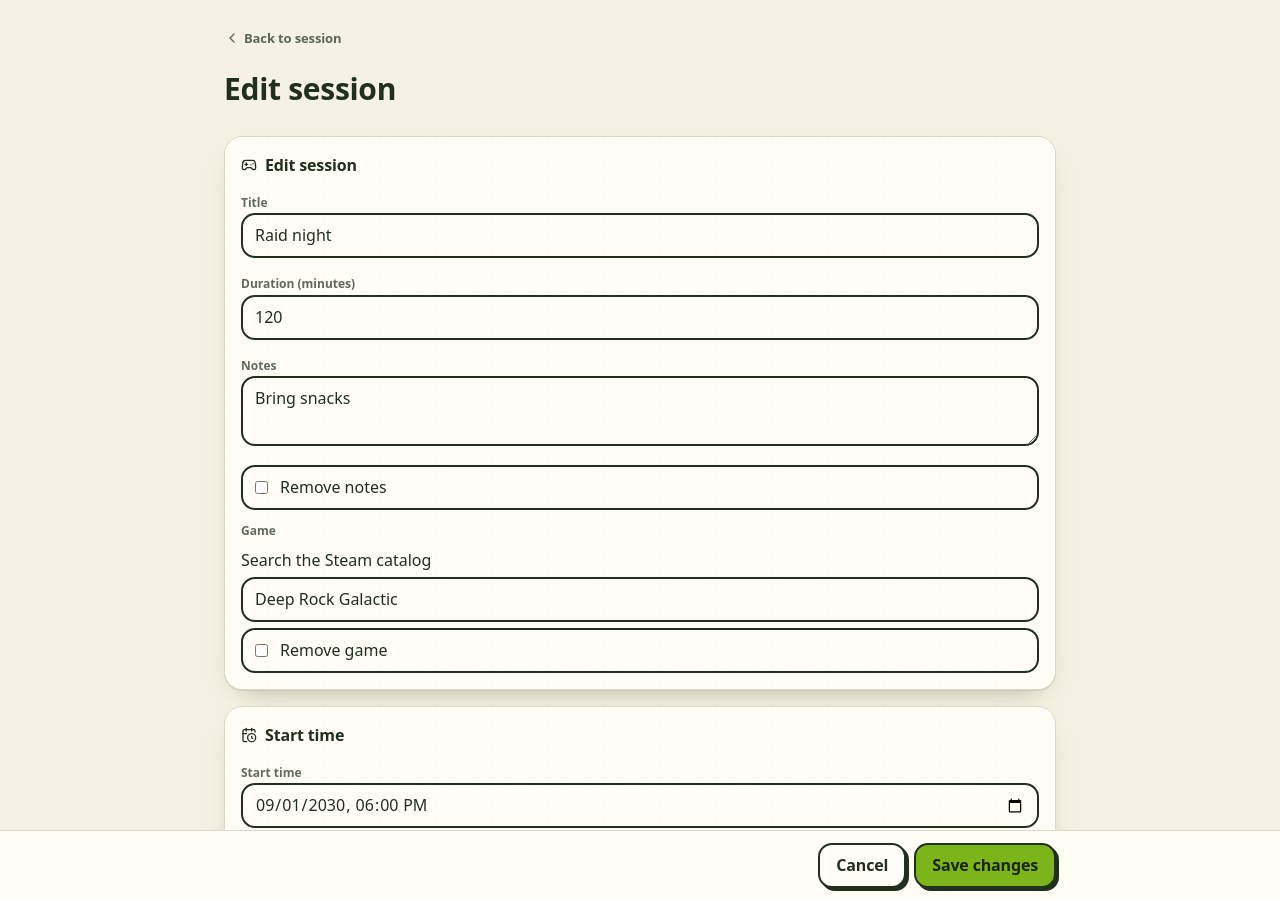
SessionEditPage (lovable) › retries exactly once after a session_conflict then surfaces the error on repeat failure_A071
What coordinates should you click on to do the following:
click the button "Save changes"
I would click on:
 (985, 866)
Its box is 914,843 -> 1056,888.
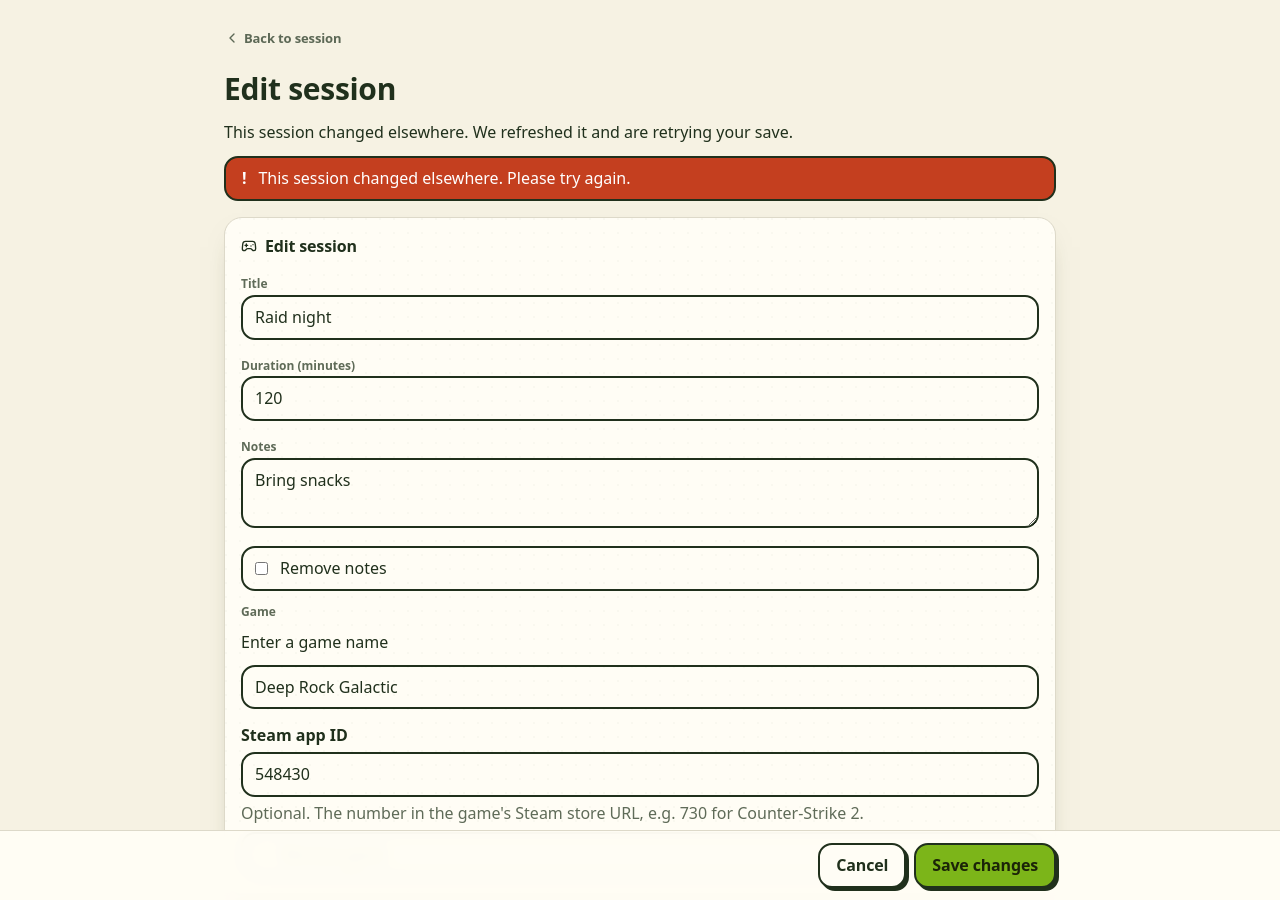
Check: the text "This session changed elsewhere. We refreshed it and are retrying your save." is shown, box 224,120 -> 793,142
Check: the text "This session changed elsewhere. Please try again." is shown, box 258,167 -> 630,189
